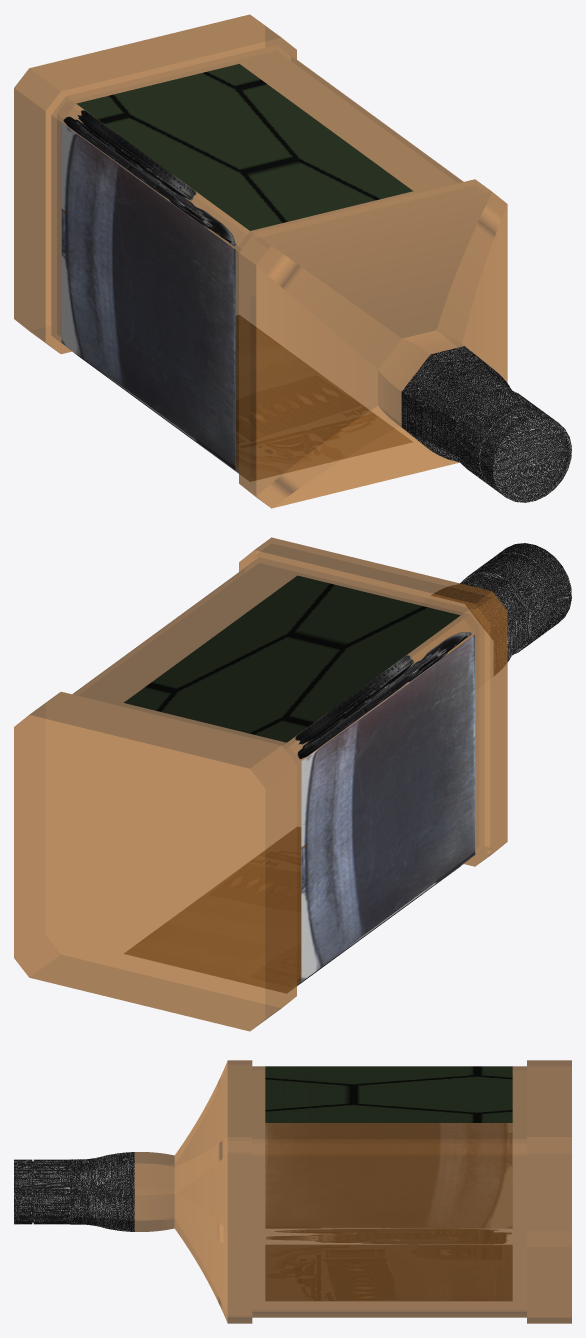
File: model_align.obj
The picture shows the model from 3 angles, top to bottom: view 1: azimuth 30°, elevation 25°; view 2: azimuth 150°, elevation 25°; view 3: azimuth 270°, elevation 25°; orthographic projection. The views are drawn at different scales.
Parts seen in each view (by area): view 1: mesh1_mesh1-geometry; view 2: mesh1_mesh1-geometry; view 3: mesh1_mesh1-geometry.
Boxes of the visible parts, x1,y1,x2,y2 form: mesh1_mesh1-geometry: (14, 14, 571, 508); mesh1_mesh1-geometry: (14, 537, 571, 1031); mesh1_mesh1-geometry: (14, 1060, 571, 1323).
Size of the model in its own units: 0.0574 by 0.0574 by 0.1554.
